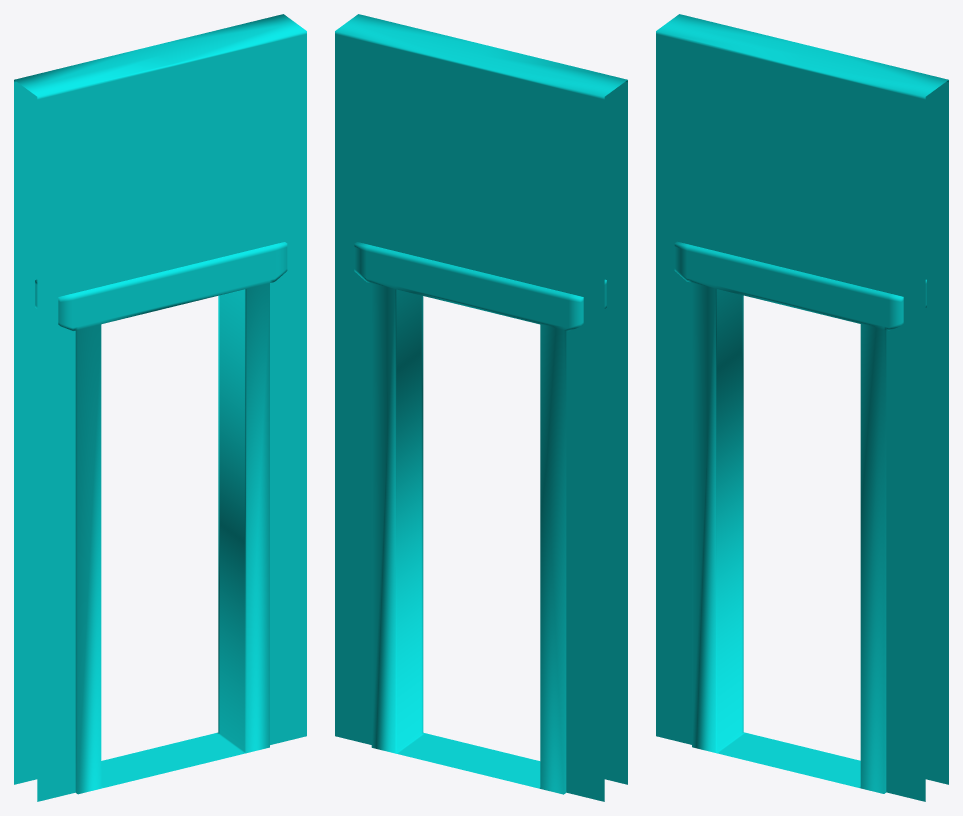
File: Wall_DoorFrame.fbx
3 views of the same model, side by side, from view 1: azimuth 30°, elevation 25°; view 2: azimuth 150°, elevation 25°; view 3: azimuth 330°, elevation 25° (orthographic).
Parts seen in each view (by area): view 1: Wall_DoorFrame; view 2: Wall_DoorFrame; view 3: Wall_DoorFrame.
Boxes of the visible parts, left/top/right/bottom form: Wall_DoorFrame: left=14, top=14, right=306, bottom=801; Wall_DoorFrame: left=335, top=14, right=627, bottom=801; Wall_DoorFrame: left=656, top=14, right=948, bottom=801.
Bounding box in the file's own units: 100 × 250 × 18.22.
